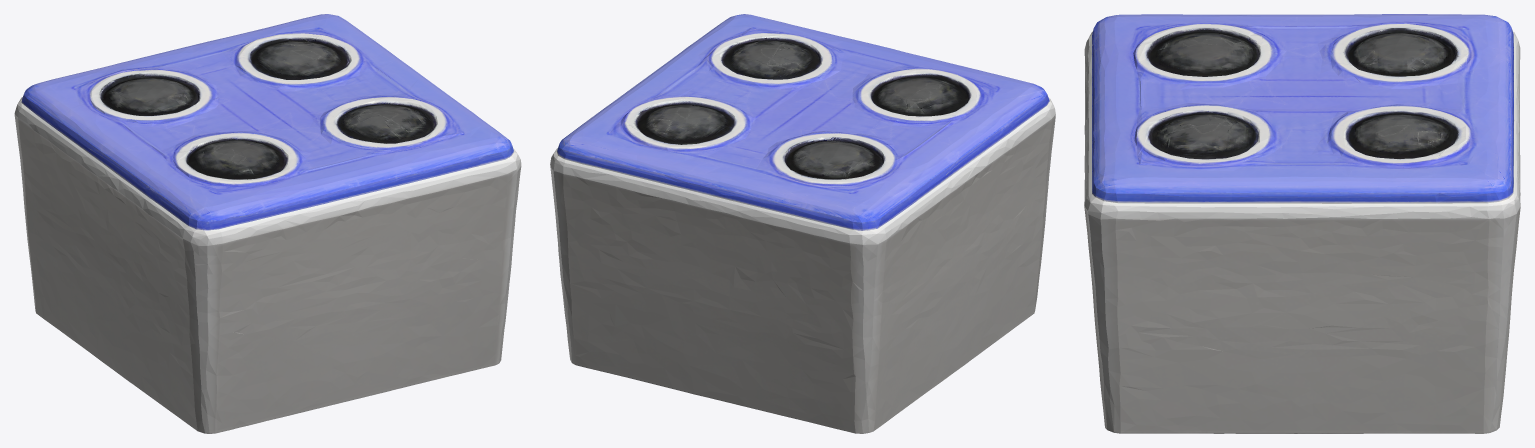
3 views of the same model, side by side, from view 1: azimuth 30°, elevation 25°; view 2: azimuth 150°, elevation 25°; view 3: azimuth 270°, elevation 25° (orthographic). The views are drawn at different scales.
Visible parts, largest first — view 1: world; view 2: world; view 3: world.
Boxes of the visible parts, x1,y1,x2,y2 form: world: (14,14,521,433); world: (550,14,1055,433); world: (1084,14,1520,433).
Bounding box in the file's own units: 0.5294 × 0.3549 × 0.5303.
1 material, 1 textured.
